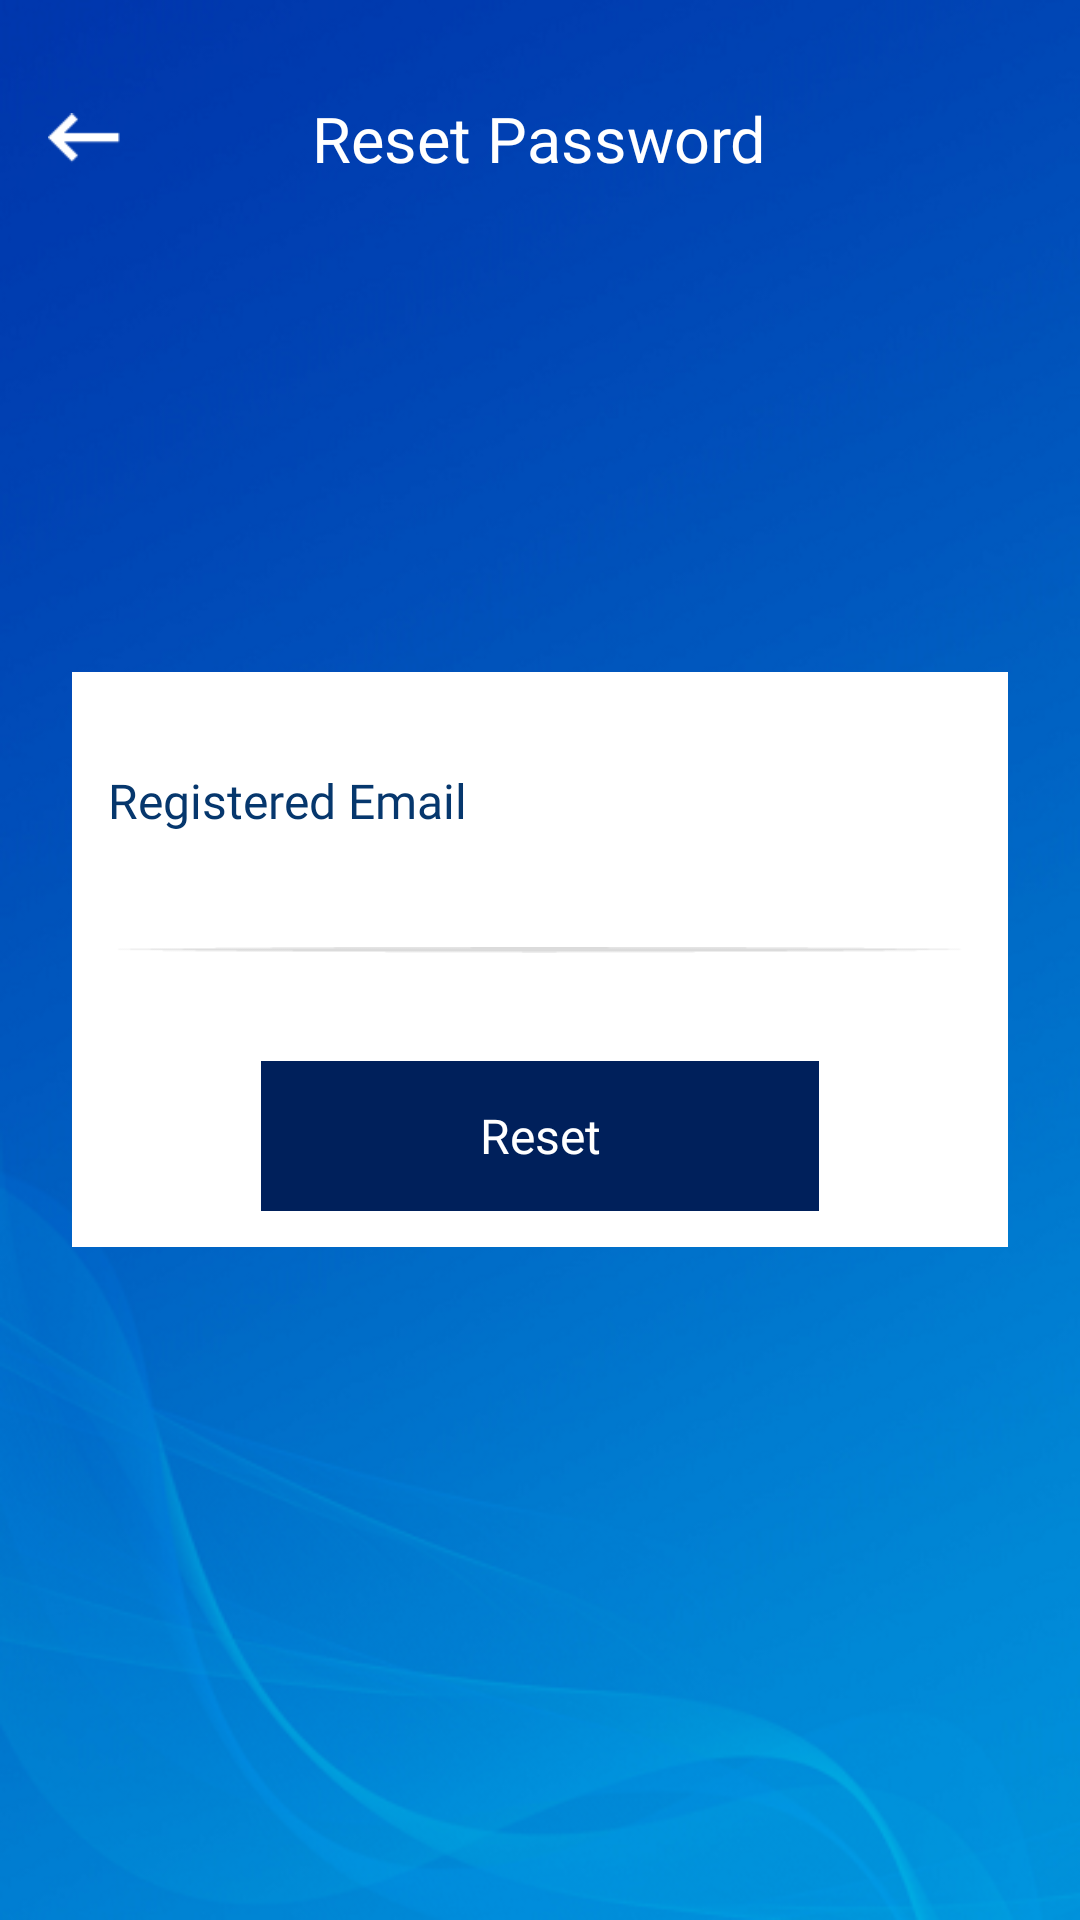

Named icons in this screenshot (1080px×1920px) and their centers, point (x, y):
backbtn: point (84, 137)
